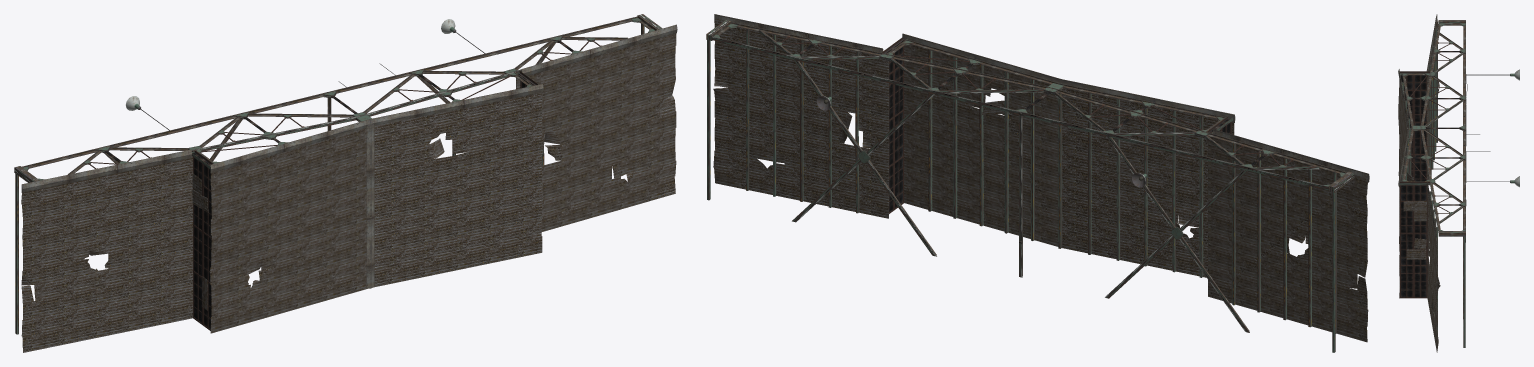
The model's file is hd_bld_UNI_008_WorkshopNew_Roof_03B.fbx.
3 views of the same model, side by side, from view 1: azimuth 30°, elevation 25°; view 2: azimuth 150°, elevation 25°; view 3: azimuth 270°, elevation 25° (orthographic). The views are drawn at different scales.
Parts seen in each view (by area): view 1: set_0_group_1, set_0_group_5, set_0_group_4, set_0_group_3; view 2: set_0_group_1, set_0_group_3, set_0_group_4, set_0_group_5; view 3: set_0_group_5, set_0_group_1, set_0_group_4, set_0_group_3, set_0_group_2.
Part boxes in pixels (box(x1,y1,x2,y2)): set_0_group_1: box(21, 33, 676, 352); set_0_group_5: box(21, 17, 677, 330); set_0_group_4: box(21, 16, 651, 174); set_0_group_3: box(14, 14, 662, 334); set_0_group_1: box(713, 19, 1368, 342); set_0_group_3: box(706, 20, 1354, 352); set_0_group_4: box(712, 22, 1346, 332); set_0_group_5: box(713, 14, 1369, 243); set_0_group_5: box(1398, 14, 1519, 298); set_0_group_1: box(1398, 18, 1440, 352); set_0_group_4: box(1402, 23, 1465, 318); set_0_group_3: box(1401, 20, 1465, 347); set_0_group_2: box(1399, 71, 1430, 185).
Bounding box in the file's own units: 4159 × 1043 × 963.
5 materials, 5 textured.
